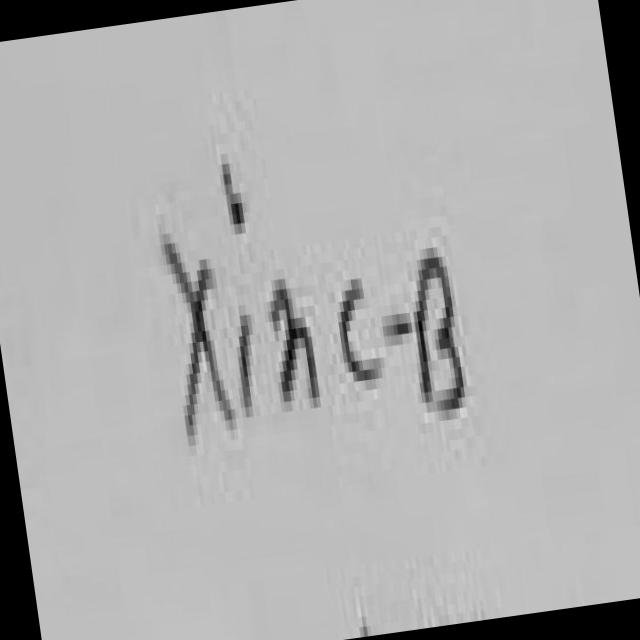B: (418, 257, 467, 406)
X: (165, 243, 235, 445)
c: (343, 279, 382, 381)
i: (224, 164, 246, 234), (240, 315, 254, 412)
n: (272, 279, 319, 401)
